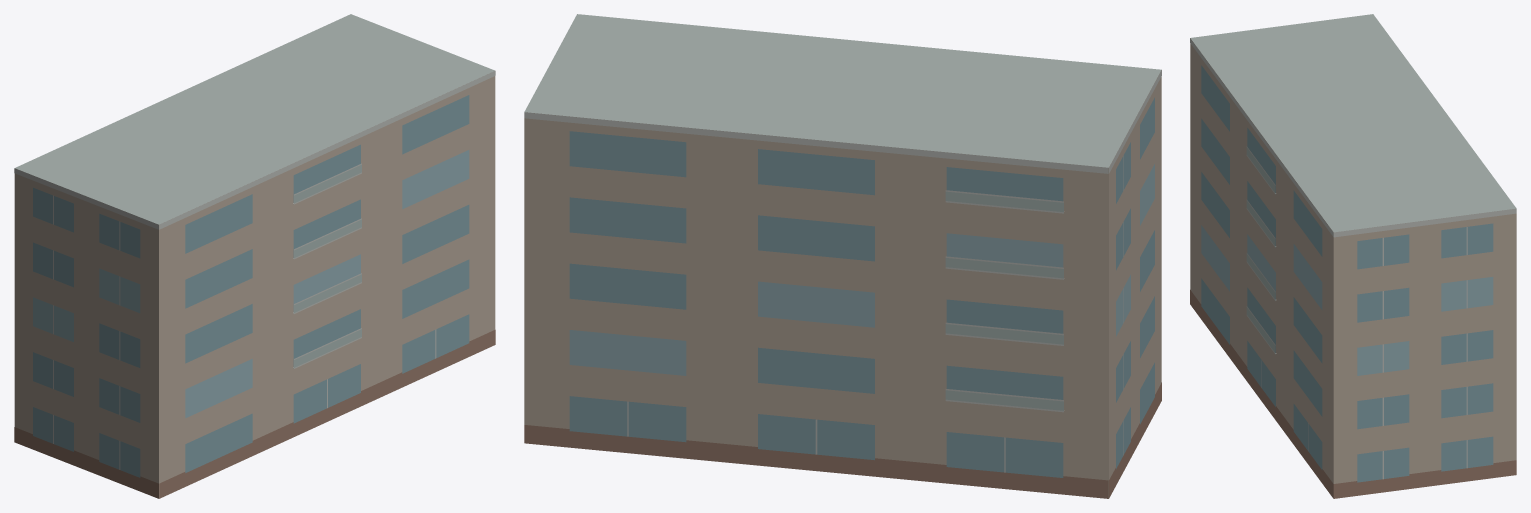
File: survey-upis-32714698.glb
3 views of the same model, side by side, from view 1: azimuth 30°, elevation 25°; view 2: azimuth 150°, elevation 25°; view 3: azimuth 270°, elevation 25° (orthographic). The views are drawn at different scales.
Parts seen in each view (by area): view 1: survey-upis-32714698.tmp; view 2: survey-upis-32714698.tmp; view 3: survey-upis-32714698.tmp.
Part boxes in pixels (left/top/right/bottom): survey-upis-32714698.tmp: left=14, top=14, right=495, bottom=498; survey-upis-32714698.tmp: left=524, top=14, right=1161, bottom=498; survey-upis-32714698.tmp: left=1190, top=14, right=1516, bottom=498.
Size of the model in its own units: 22.87 by 13 by 14.45.
